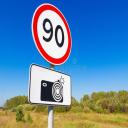speed_limit_90: (30, 2, 72, 65)
